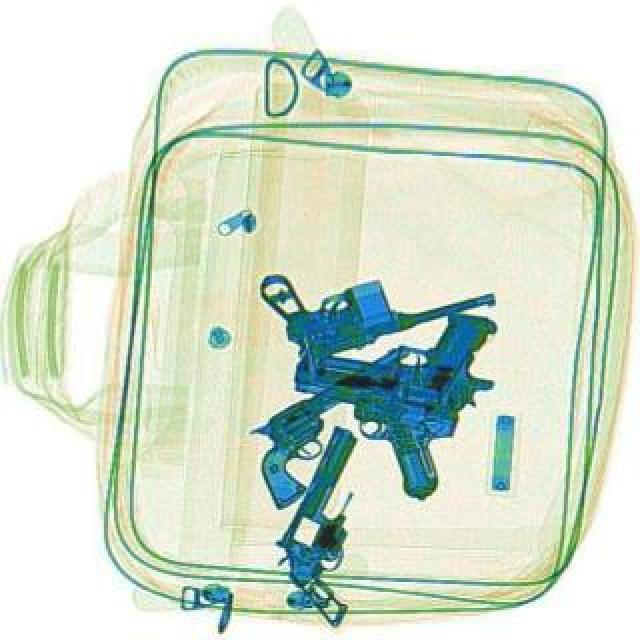gun: (228, 340, 452, 512), (254, 216, 500, 370), (248, 420, 416, 628), (288, 278, 508, 424), (270, 374, 462, 502)
